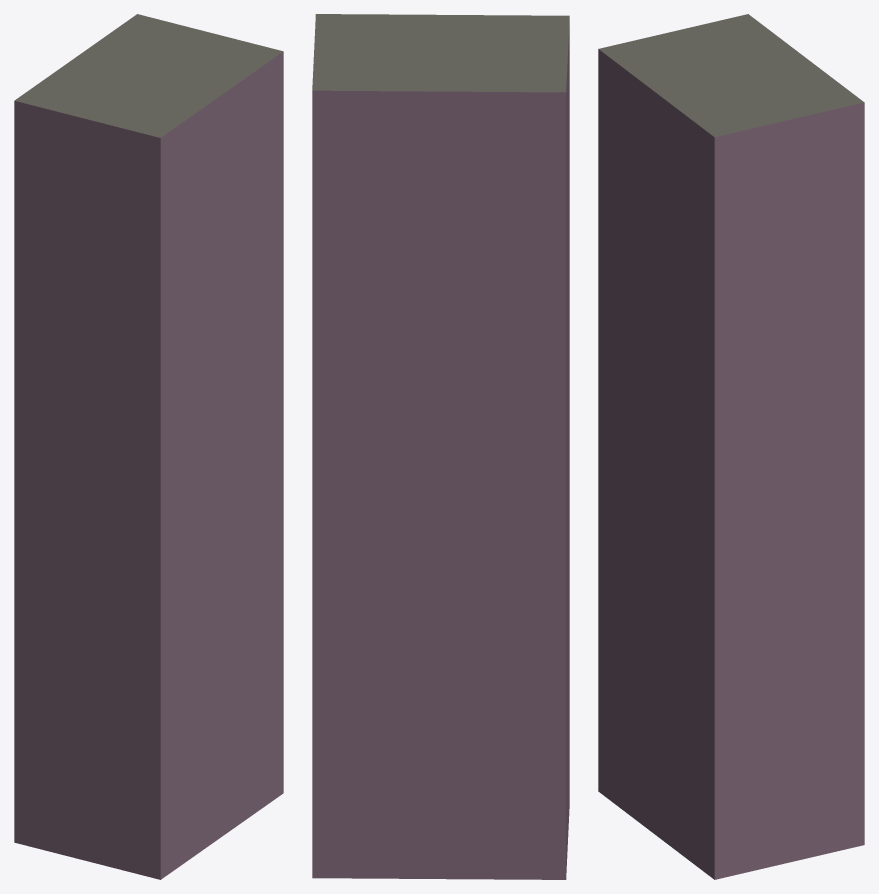
File: nyc-1085979-0.glb
3 views of the same model, side by side, from view 1: azimuth 30°, elevation 25°; view 2: azimuth 150°, elevation 25°; view 3: azimuth 270°, elevation 25° (orthographic). The views are drawn at different scales.
Visible parts, largest first — view 1: nyc-1085979-0; view 2: nyc-1085979-0; view 3: nyc-1085979-0.
Boxes of the visible parts, x1=… form: nyc-1085979-0: x1=14, y1=14, x2=283, y2=879; nyc-1085979-0: x1=312, y1=14, x2=569, y2=879; nyc-1085979-0: x1=598, y1=14, x2=864, y2=879.
Size of the model in its own units: 50.29 by 141 by 45.85.
